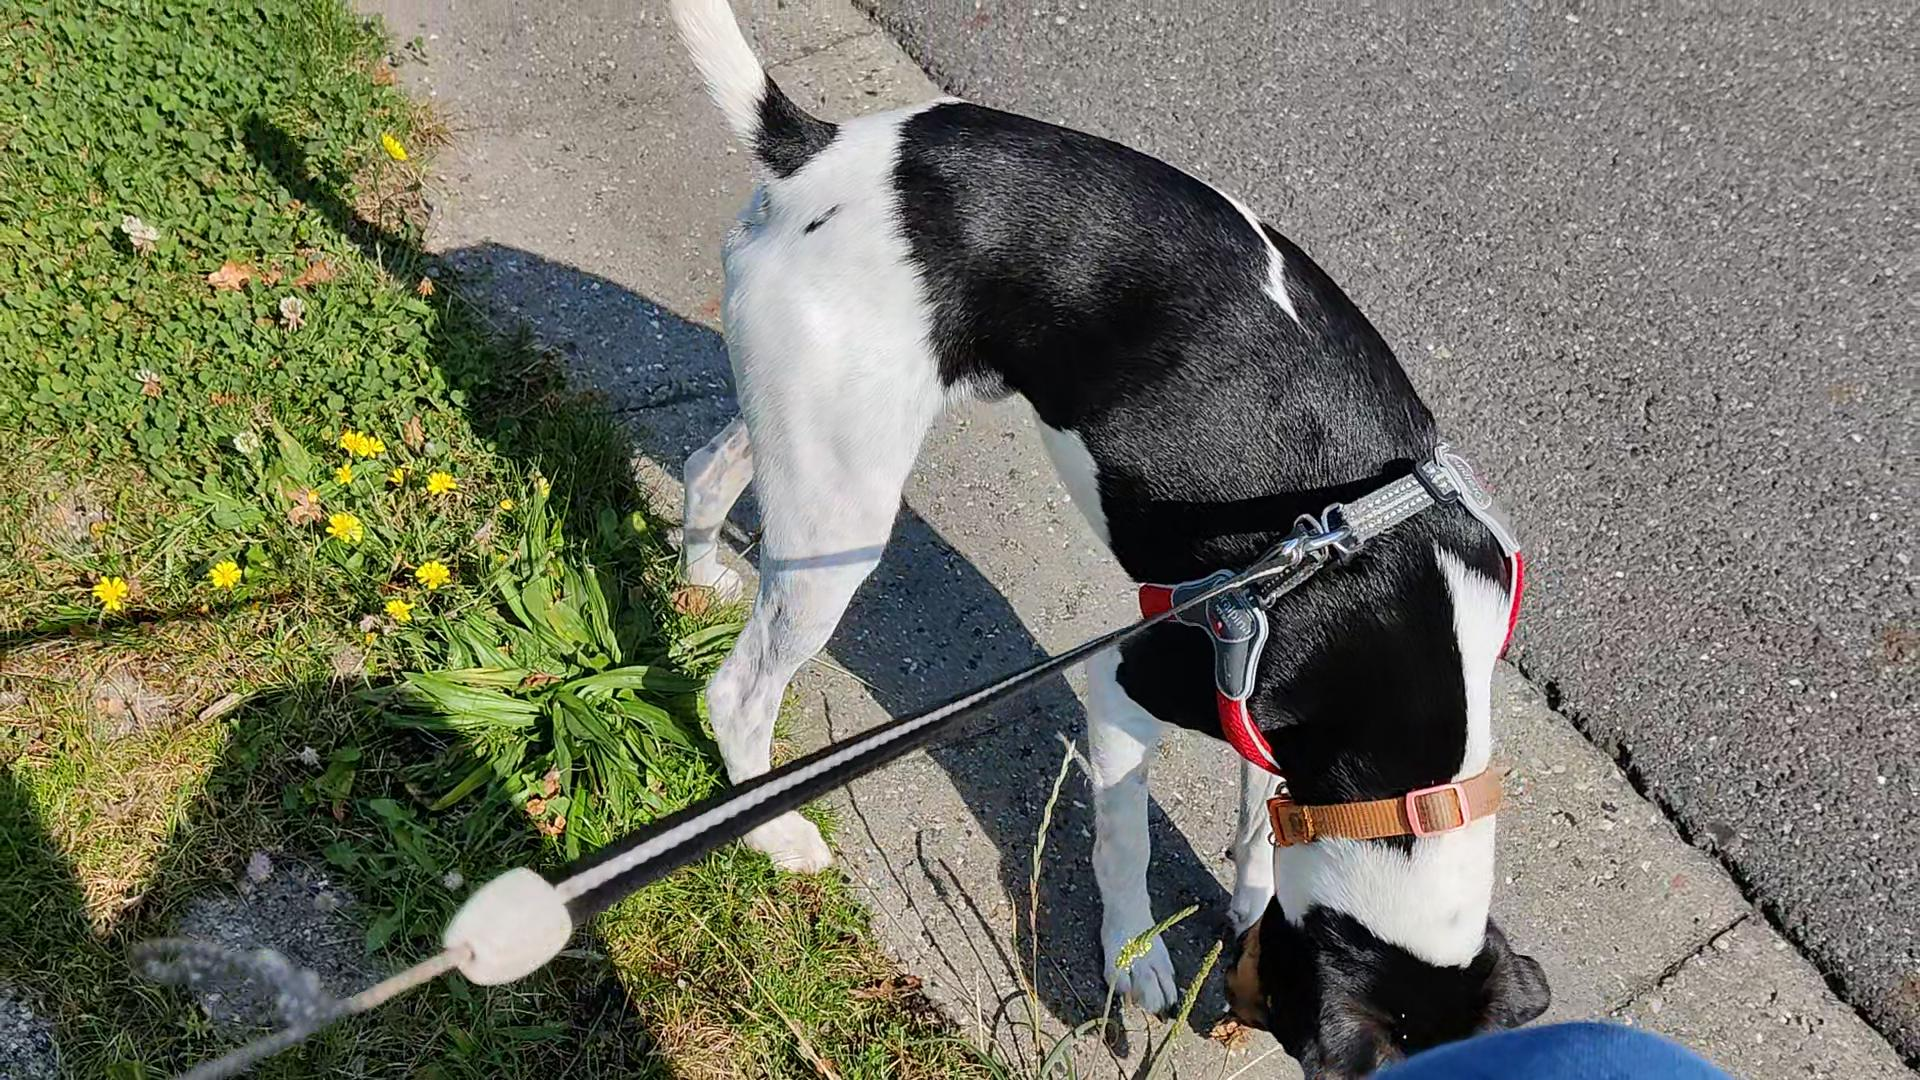Dog: (661, 0, 1557, 1079)
